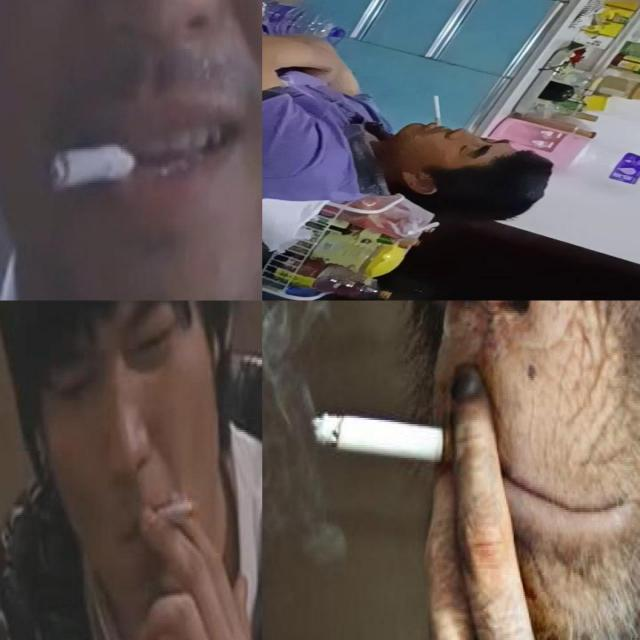cigarette: (310, 413, 490, 468), (49, 142, 142, 192), (147, 488, 207, 538), (434, 96, 442, 126)
